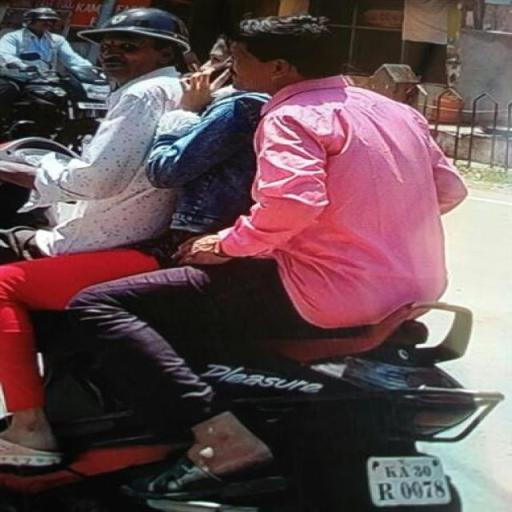tripple riding: (4, 8, 488, 456)
